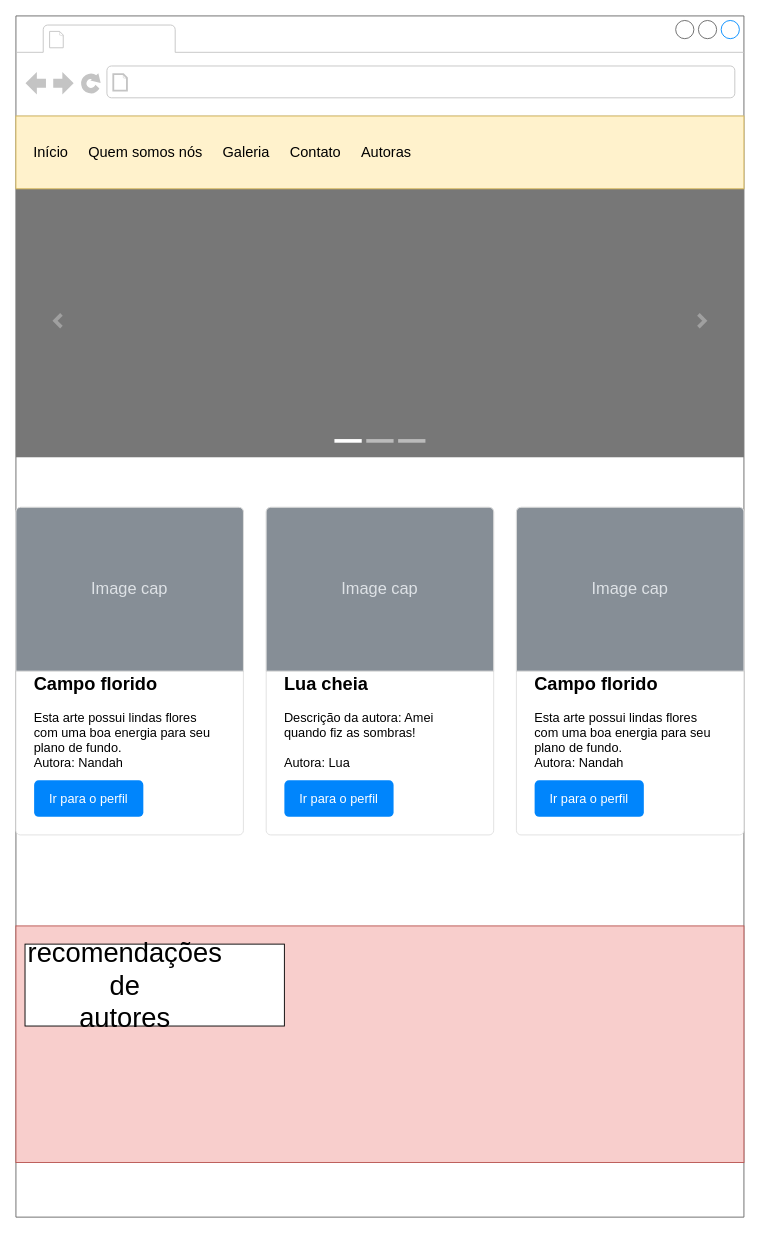
Image size: 760x1233. Some labels were removed from this diagram. Here are the shapes that lost their labels. From the top down, the centre of each, then its label:
point 120,38: Page 1
point 247,82: https://www.draw.io
point 379,320: First slide
